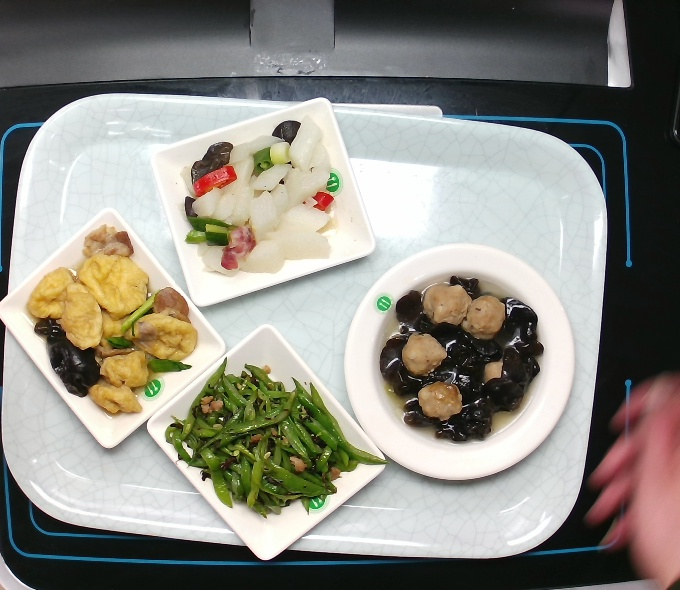wcq-MuErWanZi: (364, 262, 556, 455)
wcq-ShanYao: (171, 111, 346, 287)
wcq-SiJiDouChaoRou: (158, 353, 395, 523)
wcq-YouPaoRouPian: (22, 222, 204, 421)
